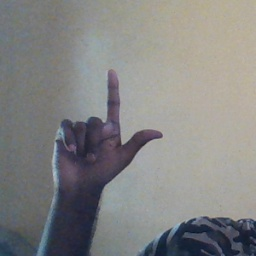L: (48, 67, 166, 188)
